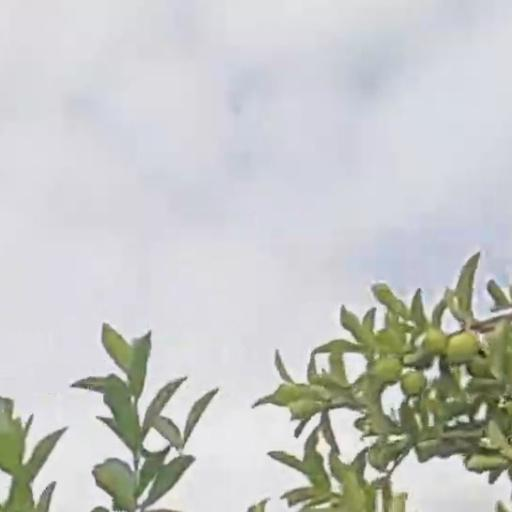acerola: (452, 337, 477, 365), (421, 328, 445, 352), (402, 370, 426, 394)
